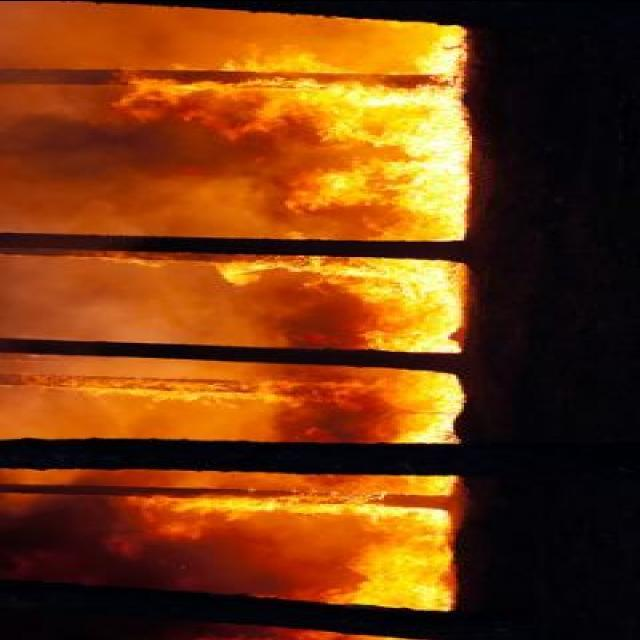Fire: (67, 19, 464, 613)
